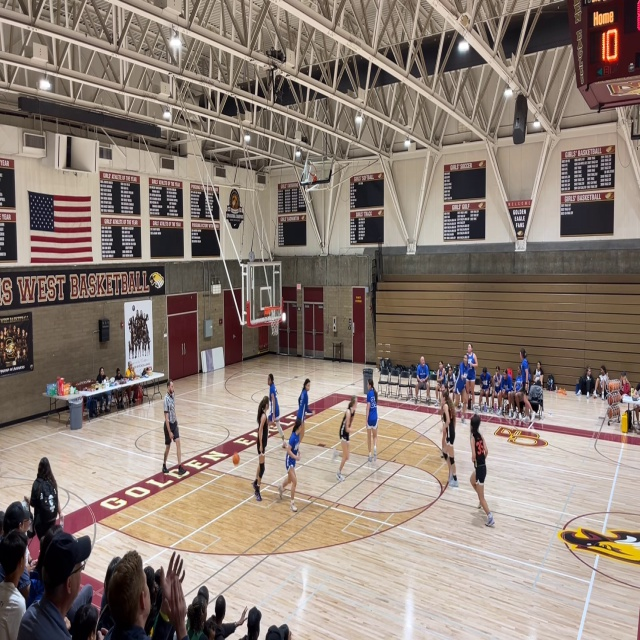Basketball: (232, 453, 240, 465)
